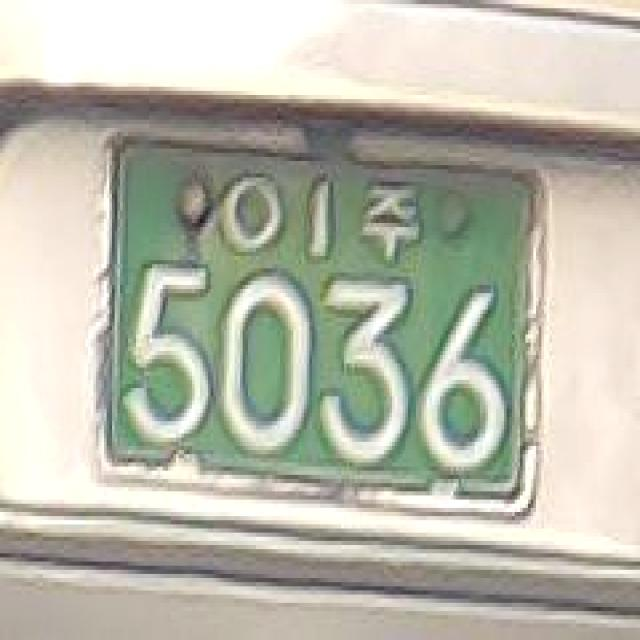illegal_plate: (75, 116, 555, 552)
